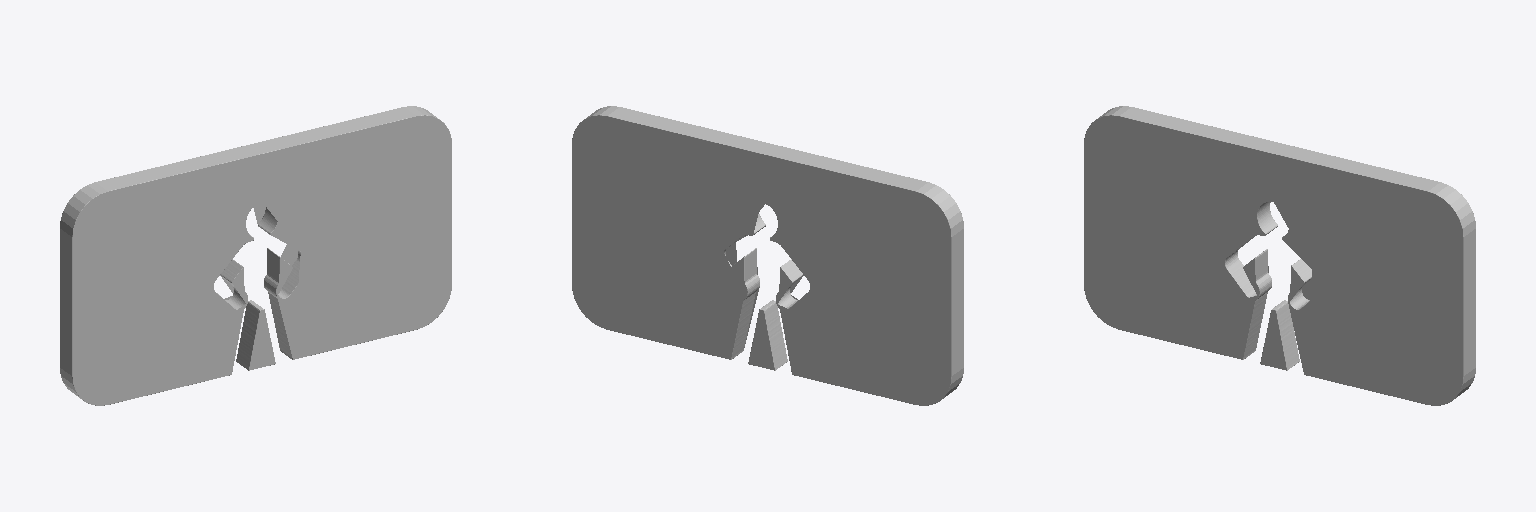
3 views of the same model, side by side, from view 1: azimuth 30°, elevation 25°; view 2: azimuth 150°, elevation 25°; view 3: azimuth 330°, elevation 25° (orthographic).
Parts seen in each view (by area): view 1: POSE2; view 2: POSE2; view 3: POSE2.
Boxes of the visible parts, x1=… form: POSE2: x1=60, y1=106, x2=451, y2=405; POSE2: x1=572, y1=106, x2=963, y2=405; POSE2: x1=1084, y1=106, x2=1475, y2=405.
Size of the model in its own units: 12 by 6.45 by 0.7.